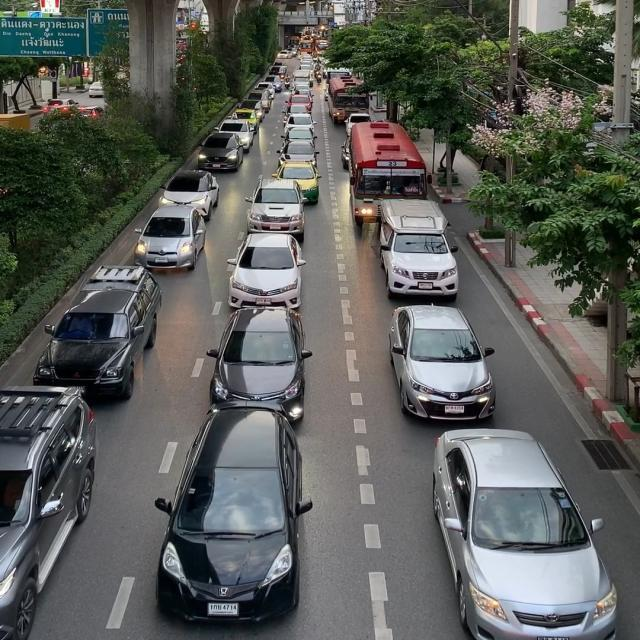Ad-signs: (0, 15, 86, 57), (85, 7, 129, 57)
Bus: (345, 119, 427, 226)
Car: (431, 426, 618, 639), (153, 402, 313, 625), (0, 383, 97, 639), (387, 303, 496, 422), (205, 305, 312, 425)
